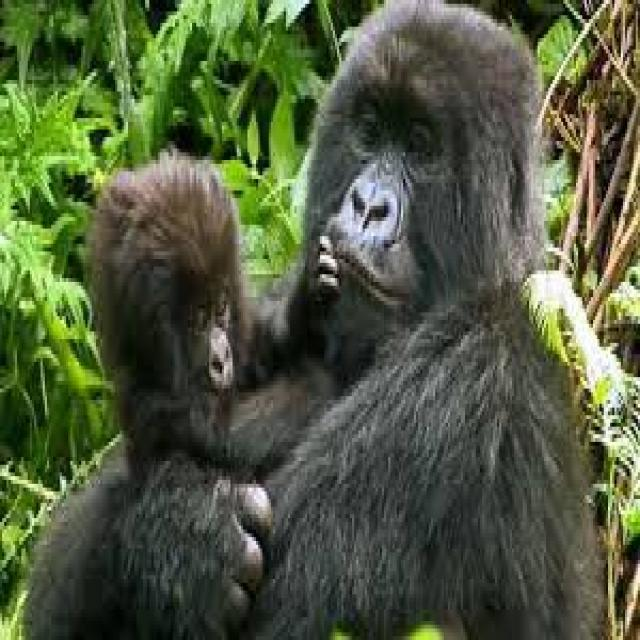Gorilla: (15, 4, 606, 640), (81, 142, 336, 473)
